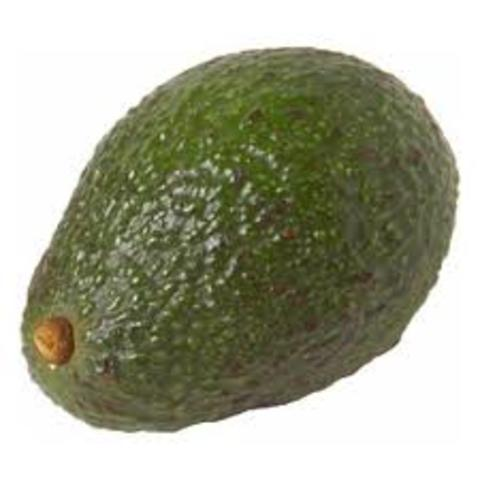avocado: (12, 18, 461, 439)
